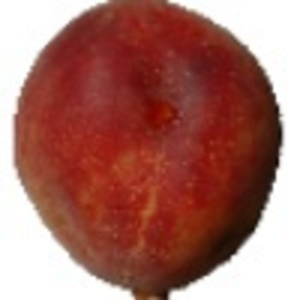pêssego: (11, 1, 284, 300)
